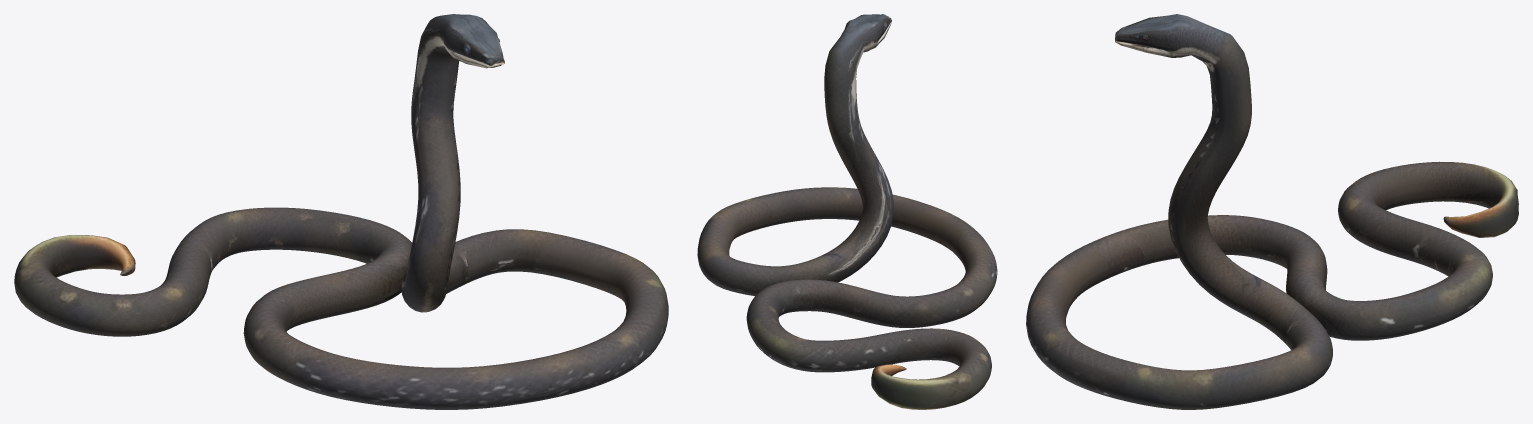
The model's file is philippine mock viper.glb.
The picture shows the model from 3 angles, left to right: view 1: azimuth 30°, elevation 25°; view 2: azimuth 150°, elevation 25°; view 3: azimuth 270°, elevation 25°; orthographic projection. The views are drawn at different scales.
Parts seen in each view (by area): view 1: Object_4; view 2: Object_4; view 3: Object_4.
Boxes of the visible parts, left/top/right/bottom form: Object_4: left=14, top=14, right=668, bottom=409; Object_4: left=697, top=14, right=997, bottom=409; Object_4: left=1026, top=14, right=1518, bottom=409.
Bounding box in the file's own units: 4.05 × 2.6 × 3.74.
1 material, 1 textured.
